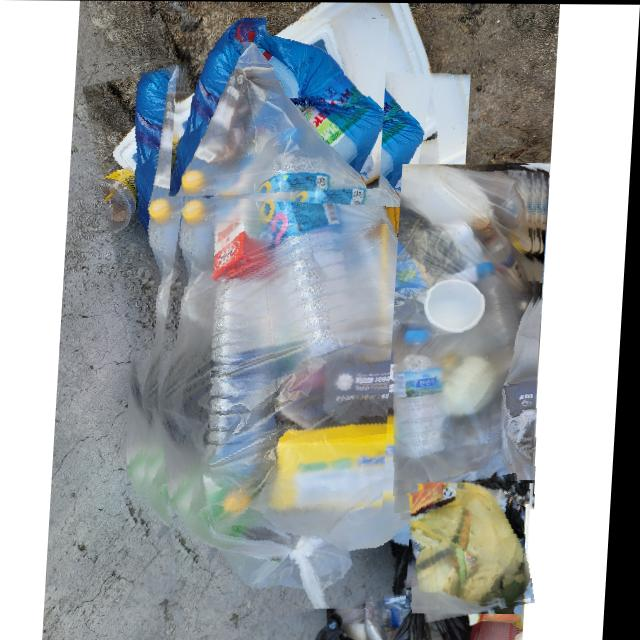other_trashbag: (163, 66, 458, 608), (399, 164, 539, 512), (174, 18, 385, 196), (417, 482, 539, 602)
